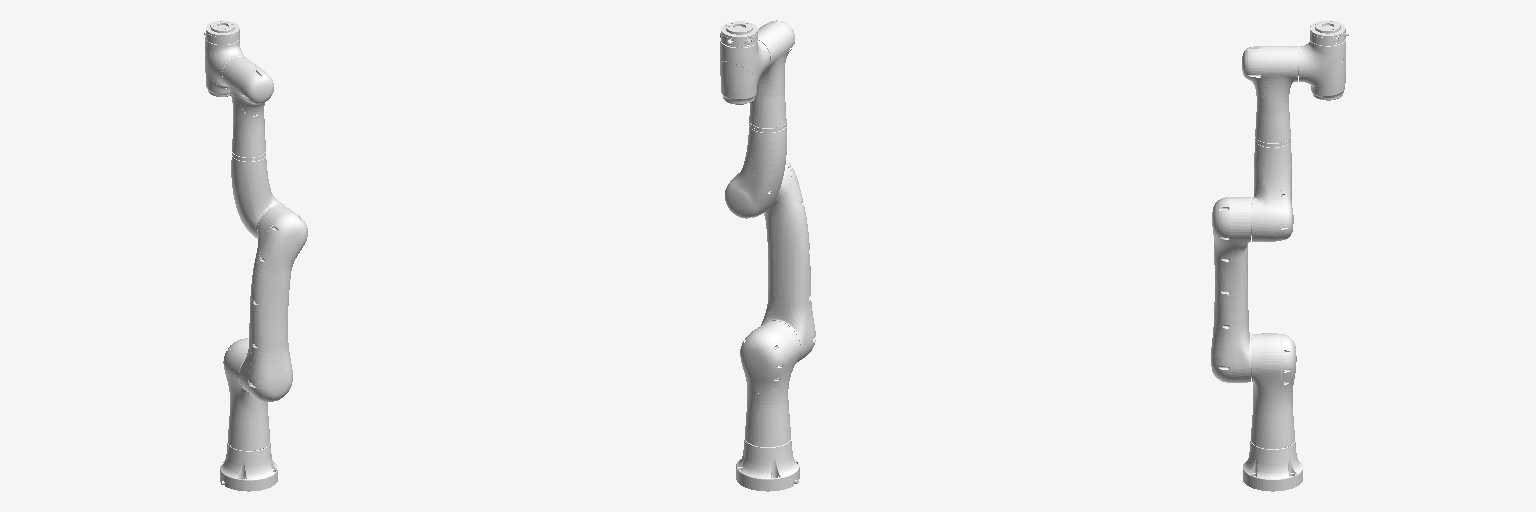
URDF robot description (nuri_4s):
<?xml version="1.0" ?>
<!-- =================================================================================== -->
<!-- |    This document was autogenerated by xacro from nuri_4s_arm_hand.urdf.xacro      | -->
<!-- |    EDITING THIS FILE BY HAND IS NOT RECOMMENDED                                 | -->
<!-- =================================================================================== -->
<robot name="nuri_4s">
    <link name="world"/>
    <link name="nuri_4s_link0">
        <visual name="nuri_4s_link0_visual">
            <origin rpy="0 0 0" xyz="0 0 0"/>
            <geometry>
                <mesh filename="Nuri4s_0.stl"/>
            </geometry>
            <material name="nuri_4s_white"/>
        </visual>
        <collision name="nuri_4s_link0_collision">
            <origin rpy="0 0 0" xyz="0 0 0"/>
            <geometry>
                <mesh filename="../meshes/collision/Nuri4s_0.stl"/>
            </geometry>
        </collision>
        <inertial>
            <origin xyz="-0.0047088 0.0013609 0.0700112" rpy="0 0 0"/>
            <mass value="3.795"/>
            <inertia ixx="0.0245374" ixy="-0.0000807" ixz="0.0008462" iyy="0.0298651" iyz="-0.0001636" izz="0.0304886"/>
        </inertial>
    </link>
    <link name="nuri_4s_link1">
        <visual name="nuri_4s_link1_visual">
            <origin rpy="0 0 0" xyz="0 0 0"/>
            <geometry>
                <mesh filename="Nuri4s_1.stl"/>
            </geometry>
            <material name="nuri_4s_white"/>
        </visual>
        <collision name="nuri_4s_link1_collision">
            <origin rpy="0 0 0" xyz="0 0 0"/>
            <geometry>
                <mesh filename="../meshes/collision/Nuri4s_1.stl"/>
            </geometry>
        </collision>
        <inertial>
            <origin xyz="0.0000003 -0.007652 0.1680273" rpy="0 0 0"/>
            <mass value="3.399"/>
            <inertia ixx="0.0341486" ixy="-0.0024189" ixz="-0.0000048" iyy="0.0337188" iyz="-0.000001" izz="0.0065689"/>
        </inertial>
    </link>
    <link name="nuri_4s_link2">
        <visual name="nuri_4s_link2_visual">
            <origin rpy="0 0 0" xyz="0 0 0"/>
            <geometry>
                <mesh filename="Nuri4s_2.stl"/>
            </geometry>
            <material name="nuri_4s_white"/>
        </visual>
        <collision name="nuri_4s_link2_collision">
            <origin rpy="0 0 0" xyz="0 0 0"/>
            <geometry>
                <mesh filename="../meshes/collision/Nuri4s_2.stl"/>
            </geometry>
        </collision>
        <inertial>
            <origin xyz="0.0166661 -0.21167129999399 -0.0293009000434145" rpy="0 0 0"/>
            <mass value="4.291"/>
            <inertia ixx="0.14042515" ixy="-0.01494819200008" ixz="0.000390087996934075" iyy="0.0126477499989528" iyz="0.00255276697379717" izz="0.140401980001047"/>
        </inertial>
    </link>
    <link name="nuri_4s_link3">
        <visual name="nuri_4s_link3_visual">
            <origin rpy="0 0 0" xyz="0 0 0"/>
            <geometry>
                <mesh filename="Nuri4s_3.stl"/>
            </geometry>
            <material name="nuri_4s_white"/>
        </visual>
        <collision name="nuri_4s_link3_collision">
            <origin rpy="0 0 0" xyz="0 0 0"/>
            <geometry>
                <mesh filename="../meshes/collision/Nuri4s_3.stl"/>
            </geometry>
        </collision>
        <inertial>
            <origin xyz="-0.0249002 -0.110739200006156 0.0300139998952456" rpy="0 0 0"/>
            <mass value="2.018"/>
            <inertia ixx="0.02103842" ixy="-0.00402664699990075" ixz="-0.000483905000825879" iyy="0.00429357999930064" iyz="0.00170489899643467" izz="0.0216766700006994"/>
        </inertial>
    </link>
    <link name="nuri_4s_link4">
        <visual name="nuri_4s_link4_visual">
            <origin rpy="0 0 0" xyz="0 0 0"/>
            <geometry>
                <mesh filename="Nuri4s_4.stl"/>
            </geometry>
            <material name="nuri_4s_white"/>
        </visual>
        <collision name="nuri_4s_link4_collision">
            <origin rpy="0 0 0" xyz="0 0 0"/>
            <geometry>
                <mesh filename="../meshes/collision/Nuri4s_4.stl"/>
            </geometry>
        </collision>
        <inertial>
            <origin xyz="0.0000254 0.0107527998779635 0.160977100008204" rpy="0 0 0"/>
            <mass value="1.882"/>
            <inertia ixx="0.01331985" ixy="-0.00000185" ixz="0.000000867" iyy="0.01251989" iyz="-0.00143894" izz="0.00278828"/>
        </inertial>
    </link>
    <link name="nuri_4s_link5">
        <visual name="nuri_4s_link5_visual">
            <origin rpy="0 0 0" xyz="0 0 0"/>
            <geometry>
                <mesh filename="Nuri4s_5.stl"/>
            </geometry>
            <material name="nuri_4s_white"/>
        </visual>
        <collision name="nuri_4s_link5_collision">
            <origin rpy="0 0 0" xyz="0 0 0"/>
            <geometry>
                <mesh filename="../meshes/collision/Nuri4s_5.stl"/>
            </geometry>
        </collision>
        <inertial>
            <origin xyz="-0.0000029 -0.0339762000157573 0.0368268998709948" rpy="0 0 0"/>
            <mass value="1.507"/>
            <inertia ixx="0.00503263" ixy="0.000001293000001246" ixz="-0.0000060749999997348" iyy="0.00394479999986396" iyz="0.000331648000272865" izz="0.00261442000013604"/>
        </inertial>
    </link>
    <link name="nuri_4s_link6">
        <visual name="nuri_4s_link6_visual">
            <origin rpy="0 0 0" xyz="0 0 0"/>
            <geometry>
                <mesh filename="Nuri4s_6.stl"/>
            </geometry>
            <material name="nuri_4s_white"/>
        </visual>
        <collision name="nuri_4s_link6_collision">
            <origin rpy="0 0 0" xyz="0 0 0"/>
            <geometry>
                <mesh filename="../meshes/collision/Nuri4s_6.stl"/>
            </geometry>
        </collision>
        <inertial>
            <origin xyz="-0.0000726 -0.0000790001374193217 0.0106047000217409" rpy="0 0 0"/>
            <mass value="0.634"/>
            <inertia ixx="0.00099702" ixy="-0.000001376" ixz="0.000000897" iyy="0.00100253" iyz="0.000001581" izz="0.00044795"/>
        </inertial>
    </link>
    <link name="tcp"/>    

    <joint name="global" type="fixed">
        <origin rpy="0 0 0" xyz="0 0 0"/>
        <parent link="world"/>
        <child link="nuri_4s_link0"/>
    </joint>
    <joint name="nuri_4s_joint0" type="revolute">
        <origin rpy="0 0 0" xyz="0 0 0.09"/>
        <parent link="nuri_4s_link0"/>
        <child link="nuri_4s_link1"/>
        <axis xyz="0 0 1"/>
        <dynamics damping="0.1" friction="10.0"/>
        <limit effort="431.97" lower="-6.283185307179586" upper="6.283185307179586" velocity="3.141592653589793"/>
    </joint>
    <joint name="nuri_4s_joint1" type="revolute">
        <parent link="nuri_4s_link1"/>
        <child link="nuri_4s_link2"/>
        <origin rpy="-1.570796327 0.0 0.0" xyz="0.0 -0.04 0.238"/>
        <axis xyz="0 0 1"/>
        <dynamics damping="0.1" friction="10.0"/>
        <limit effort="431.97" lower="-2.705260340591211" upper="2.443460952792061" velocity="3.141592653589793"/>
    </joint>
    <joint name="nuri_4s_joint2" type="revolute">
        <parent link="nuri_4s_link2"/>
        <child link="nuri_4s_link3"/>
        <origin rpy="0.0 0.0 0.0" xyz="0.05 -0.4 0.0"/>
        <axis xyz="0 0 1"/>
        <dynamics damping="0.1" friction="10.0"/>
        <limit effort="197.23" lower="-3.0543261909900767" upper="2.356194490192345" velocity="3.141592653589793"/>
    </joint>
    <joint name="nuri_4s_joint3" type="revolute">
        <parent link="nuri_4s_link3"/>
        <child link="nuri_4s_link4"/>
        <origin rpy="1.570796327 0.0 0.0" xyz="-0.05 -0.195 0.04"/>
        <axis xyz="0 0 1"/>
        <dynamics damping="0.1" friction="10.0"/>
        <limit effort="79.79" lower="-6.283185307179586" upper="6.283185307179586" velocity="3.141592653589793"/>
    </joint>
    <joint name="nuri_4s_joint4" type="revolute">
        <parent link="nuri_4s_link4"/>
        <child link="nuri_4s_link5"/>
        <origin rpy="-1.570796327 0.0 0.0" xyz="0.0 0.07 0.2050424"/>
        <axis xyz="0 0 1"/>
        <dynamics damping="0.1" friction="10.0"/>
        <limit effort="79.79" lower="-6.283185307179586" upper="6.283185307179586" velocity="3.141592653589793"/>
    </joint>
    <joint name="nuri_4s_joint5" type="revolute">
        <parent link="nuri_4s_link5"/>
        <child link="nuri_4s_link6"/>
        <origin rpy="1.570796327 0.0 0.0" xyz="0.0 -0.075 0.066"/>
        <axis xyz="0 0 1"/>
        <dynamics damping="0.1" friction="10.0"/>
        <limit effort="79.79" lower="-6.283185307179586" upper="6.283185307179586" velocity="3.141592653589793"/>
    </joint>
    <joint name="tcp_joint" type="fixed">
        <parent link="nuri_4s_link6"/>
        <child link="tcp"/>
        <origin rpy="0.0 0.0 0.0" xyz="0.0 0.0 0.0285"/>
    </joint>

    <material name="nuri_4s_white">
        <color rgba="1. 1. 1. 1."/>
    </material>
</robot>

--- Render facts (derived) ---
3 views of the same robot in one strip: view 1: azimuth 30°, elevation 25°; view 2: azimuth 150°, elevation 25°; view 3: azimuth 270°, elevation 25° (orthographic).
Model nuri_4s with 9 links and 8 joints (6 revolute, 2 fixed), rooted at world, posed every joint at zero.
Visible links, largest first — view 1: nuri_4s_link2, nuri_4s_link4, nuri_4s_link1, nuri_4s_link3, nuri_4s_link0, nuri_4s_link5, nuri_4s_link6; view 2: nuri_4s_link2, nuri_4s_link1, nuri_4s_link3, nuri_4s_link4, nuri_4s_link0, nuri_4s_link5, nuri_4s_link6; view 3: nuri_4s_link2, nuri_4s_link1, nuri_4s_link4, nuri_4s_link3, nuri_4s_link5, nuri_4s_link0, nuri_4s_link6.
Boxes of the visible links, bbox=[...] form: nuri_4s_link2: bbox=[239, 206, 307, 401]; nuri_4s_link4: bbox=[222, 57, 273, 157]; nuri_4s_link1: bbox=[223, 338, 269, 450]; nuri_4s_link3: bbox=[231, 152, 285, 238]; nuri_4s_link0: bbox=[220, 443, 277, 491]; nuri_4s_link5: bbox=[205, 37, 245, 96]; nuri_4s_link6: bbox=[204, 20, 239, 44]; nuri_4s_link2: bbox=[761, 160, 815, 362]; nuri_4s_link1: bbox=[740, 321, 800, 446]; nuri_4s_link3: bbox=[725, 121, 786, 218]; nuri_4s_link4: bbox=[749, 20, 794, 127]; nuri_4s_link0: bbox=[736, 440, 799, 491]; nuri_4s_link5: bbox=[720, 40, 769, 104]; nuri_4s_link6: bbox=[720, 21, 757, 47]; nuri_4s_link2: bbox=[1211, 197, 1251, 382]; nuri_4s_link1: bbox=[1251, 333, 1296, 448]; nuri_4s_link4: bbox=[1242, 46, 1298, 142]; nuri_4s_link3: bbox=[1252, 137, 1293, 241]; nuri_4s_link5: bbox=[1299, 39, 1345, 100]; nuri_4s_link0: bbox=[1243, 441, 1302, 491]; nuri_4s_link6: bbox=[1310, 20, 1348, 45].
Bounding box of the posed robot: 0.1878 × 0.3405 × 1.23 m (x, y, z).
7 mesh visuals loaded from 7 distinct referenced files (7 binary STL).
